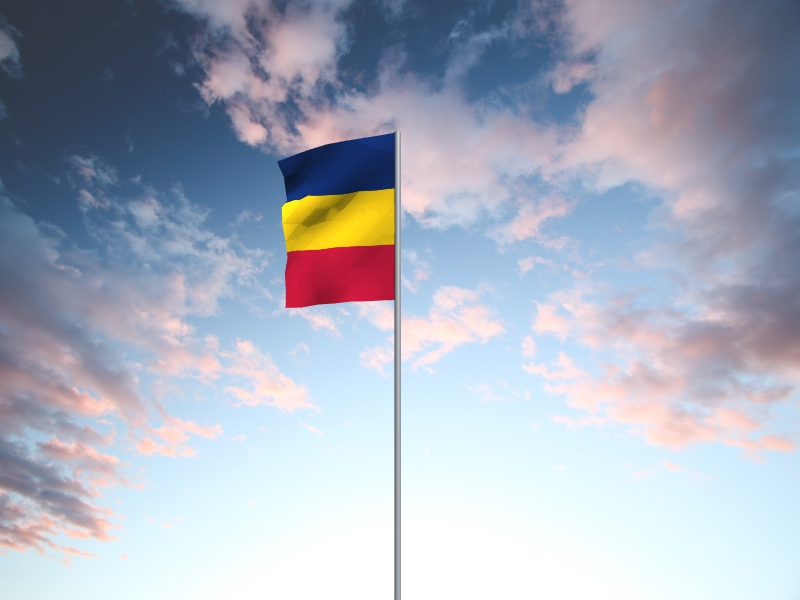td: (277, 133, 394, 309)
